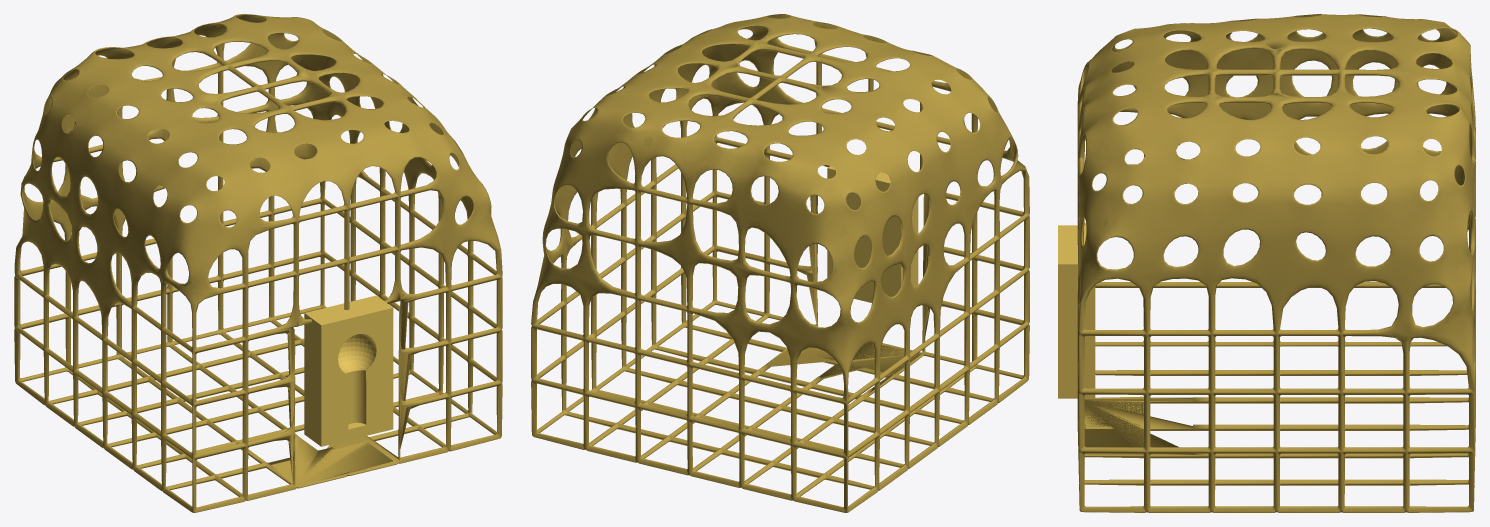
File: cage.fbx
3 renders of one model, left to right at view 1: azimuth 30°, elevation 25°; view 2: azimuth 150°, elevation 25°; view 3: azimuth 270°, elevation 25°, orthographic. The views are drawn at different scales.
Visible parts, largest first — view 1: Cube.001, Cube.002; view 2: Cube.001, Cube.002; view 3: Cube.001, Cube.002.
Boxes of the visible parts, x1,y1,x2,y2 form: Cube.001: (14,14,502,512); Cube.002: (304,295,393,446); Cube.001: (531,14,1029,512); Cube.002: (827,166,918,302); Cube.001: (1077,14,1475,512); Cube.002: (1058,225,1095,398).
Bounding box in the file's own units: 205 × 205 × 215.
